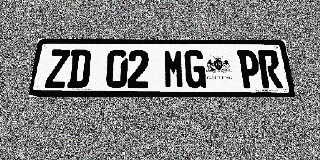0: (105, 49, 128, 88)
2: (127, 50, 149, 88)
D: (67, 49, 92, 88)
G: (184, 50, 207, 88)
M: (163, 50, 185, 88)
P: (237, 50, 262, 88)
R: (257, 50, 283, 88)
Z: (44, 49, 71, 88)
